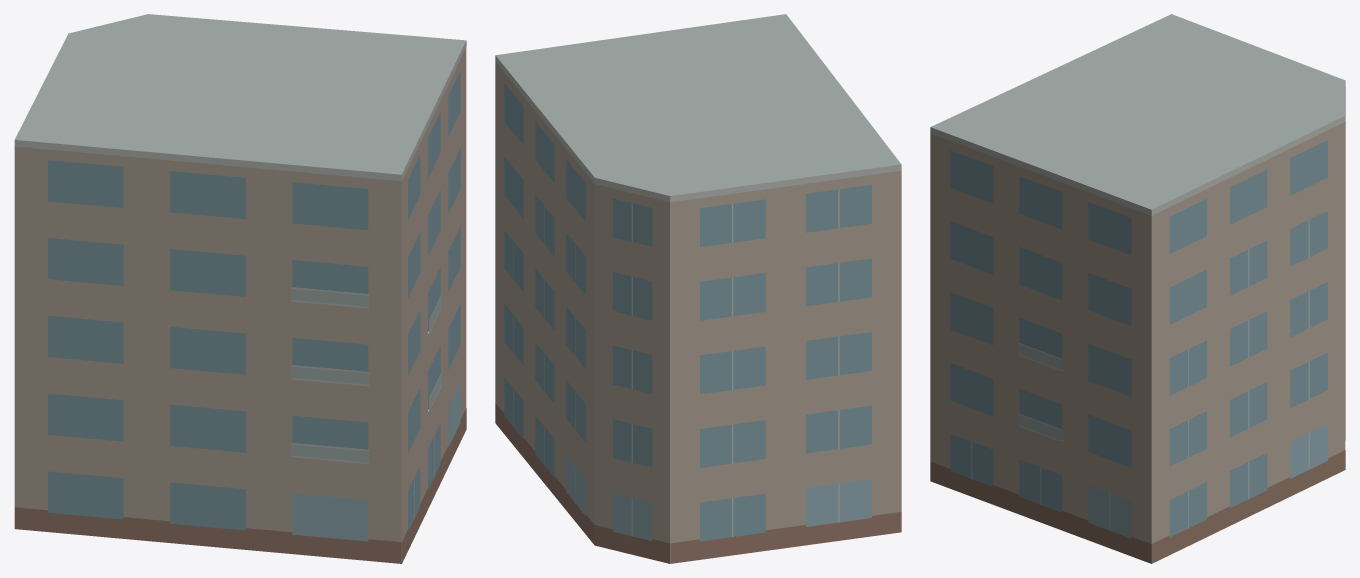
Rendered from survey-upis-32523379.glb.
The picture shows the model from 3 angles, left to right: view 1: azimuth 30°, elevation 25°; view 2: azimuth 150°, elevation 25°; view 3: azimuth 270°, elevation 25°; orthographic projection. The views are drawn at different scales.
Parts seen in each view (by area): view 1: survey-upis-32523379.tmp; view 2: survey-upis-32523379.tmp; view 3: survey-upis-32523379.tmp.
Part boxes in pixels (x1=…): survey-upis-32523379.tmp: x1=14, y1=14, x2=466, y2=563; survey-upis-32523379.tmp: x1=495, y1=14, x2=901, y2=563; survey-upis-32523379.tmp: x1=930, y1=14, x2=1345, y2=563.
Size of the model in its own units: 16.96 by 14.3 by 15.21.
